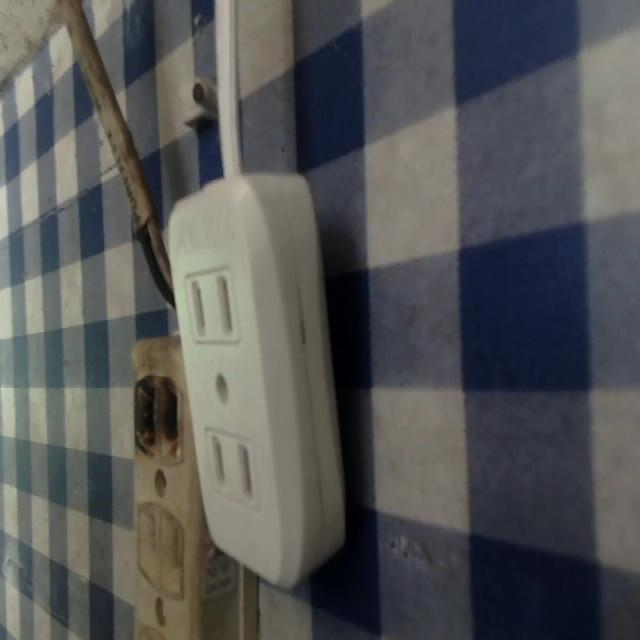-: (122, 366, 187, 462)
